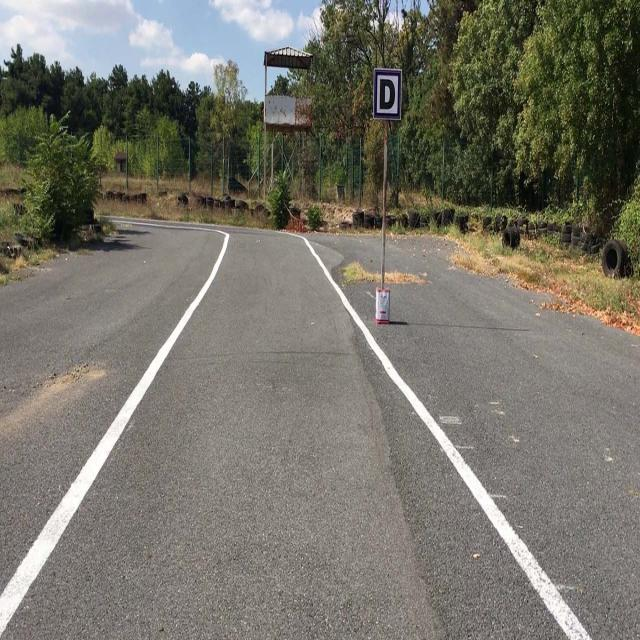durak: (375, 69, 401, 119)
